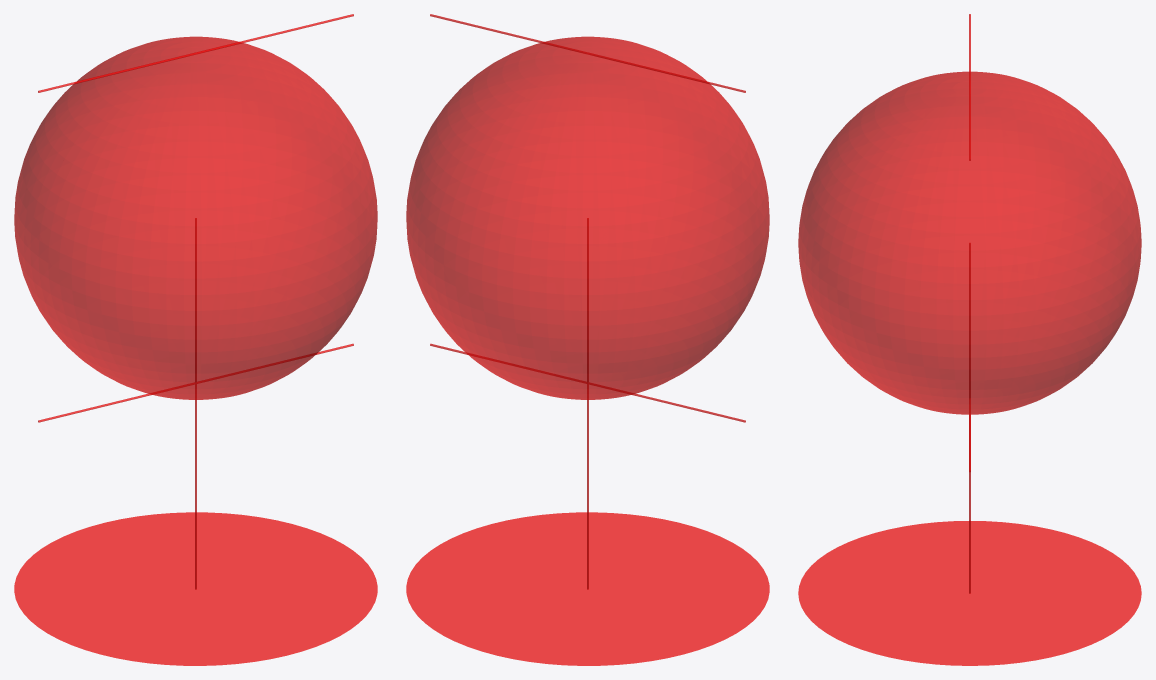
The picture shows the model from 3 angles, left to right: view 1: azimuth 30°, elevation 25°; view 2: azimuth 150°, elevation 25°; view 3: azimuth 270°, elevation 25°; orthographic projection. The views are drawn at different scales.
Visible parts, largest first — view 1: 球, 円柱, 円柱.003, 円柱.001, 円柱.002; view 2: 球, 円柱, 円柱.003, 円柱.001, 円柱.002; view 3: 球, 円柱, 円柱.001.
Part boxes in pixels (x1=…): 球: x1=14, y1=36, x2=377, y2=399; 円柱: x1=14, y1=512, x2=377, y2=665; 円柱.003: x1=38, y1=14, x2=353, y2=92; 円柱.001: x1=195, y1=218, x2=196, y2=589; 円柱.002: x1=38, y1=343, x2=353, y2=422; 球: x1=406, y1=36, x2=769, y2=399; 円柱: x1=406, y1=512, x2=769, y2=665; 円柱.003: x1=430, y1=14, x2=745, y2=92; 円柱.001: x1=587, y1=218, x2=588, y2=589; 円柱.002: x1=430, y1=343, x2=745, y2=422; 球: x1=798, y1=71, x2=1141, y2=414; 円柱: x1=798, y1=521, x2=1141, y2=665; 円柱.001: x1=969, y1=243, x2=970, y2=593.
Size of the model in its own units: 320 by 521 by 320.
